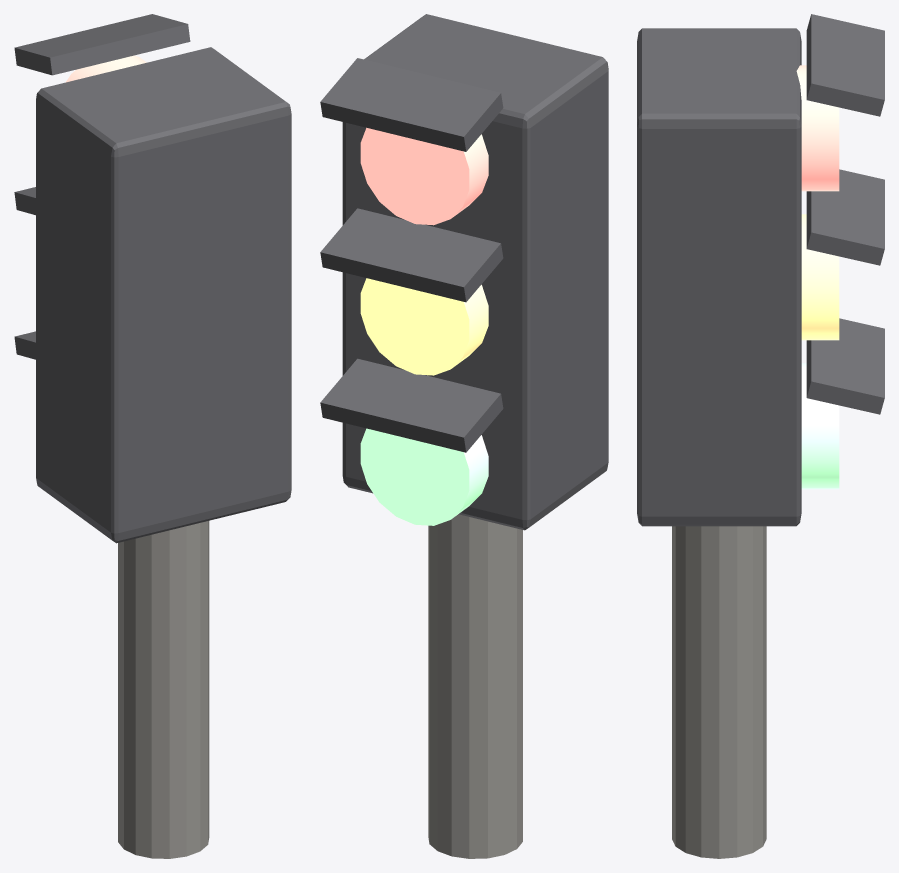
Rendered from prop-robot.glb.
3 renders of one model, left to right at view 1: azimuth 30°, elevation 25°; view 2: azimuth 150°, elevation 25°; view 3: azimuth 270°, elevation 25°, orthographic. The views are drawn at different scales.
Parts seen in each view (by area): view 1: signal_head, signal_post, signal_hood, signal_lens; view 2: signal_head, signal_post, signal_hood, signal_hood.002, signal_hood.001, signal_lens.001, signal_lens, signal_lens.002; view 3: signal_head, signal_post, signal_hood, signal_hood.001, signal_hood.002, signal_lens, signal_lens.002, signal_lens.001.
Boxes of the visible parts, <box> form: signal_head: <box>36,47,291,543</box>; signal_post: <box>118,521,209,858</box>; signal_hood: <box>14,14,190,75</box>; signal_lens: <box>65,55,146,82</box>; signal_head: <box>342,14,608,530</box>; signal_post: <box>428,514,522,858</box>; signal_hood: <box>320,58,503,151</box>; signal_hood.002: <box>320,358,503,452</box>; signal_hood.001: <box>320,208,503,302</box>; signal_lens.001: <box>360,278,488,375</box>; signal_lens: <box>360,127,488,225</box>; signal_lens.002: <box>360,428,488,525</box>; signal_head: <box>637,28,801,526</box>; signal_post: <box>672,526,766,858</box>; signal_hood: <box>806,14,884,116</box>; signal_hood.001: <box>806,169,884,265</box>; signal_hood.002: <box>806,318,884,414</box>; signal_lens: <box>796,65,839,191</box>; signal_lens.002: <box>801,363,839,489</box>; signal_lens.001: <box>801,214,839,340</box>.
Size of the model in its own units: 0.34 by 1.38 by 0.3918.
